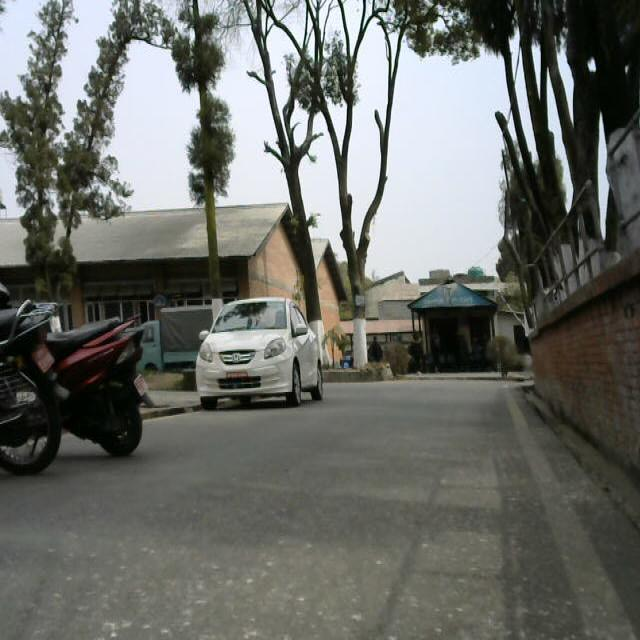Bike: (62, 323, 176, 463), (0, 276, 66, 474)
Car: (188, 295, 315, 421)
Road: (134, 382, 640, 640)
trees: (234, 0, 445, 298), (466, 4, 640, 236), (0, 3, 131, 265), (162, 0, 247, 303)
